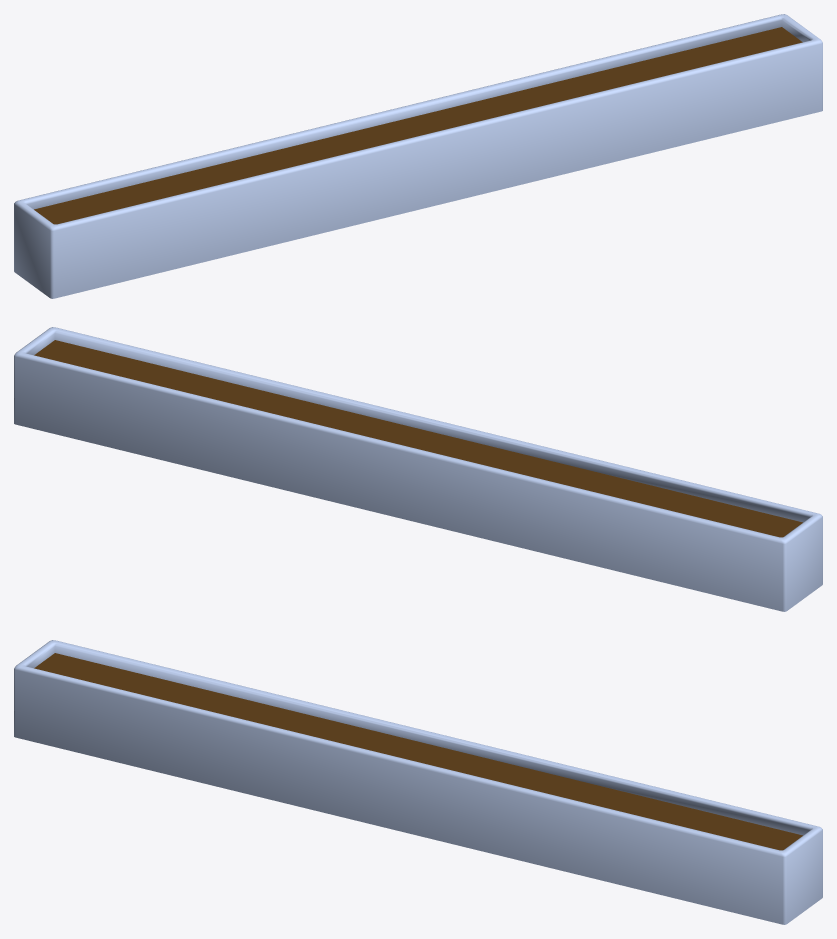
File: GrassHedg.fbx
3 renders of one model, top to bottom at view 1: azimuth 30°, elevation 25°; view 2: azimuth 150°, elevation 25°; view 3: azimuth 330°, elevation 25°, orthographic.
Parts seen in each view (by area): view 1: GrassHedg; view 2: GrassHedg; view 3: GrassHedg.
Boxes of the visible parts, bbox=[...] form: GrassHedg: bbox=[14, 14, 822, 298]; GrassHedg: bbox=[14, 327, 822, 611]; GrassHedg: bbox=[14, 640, 822, 924].
Bounding box in the file's own units: 46 × 4 × 4.
